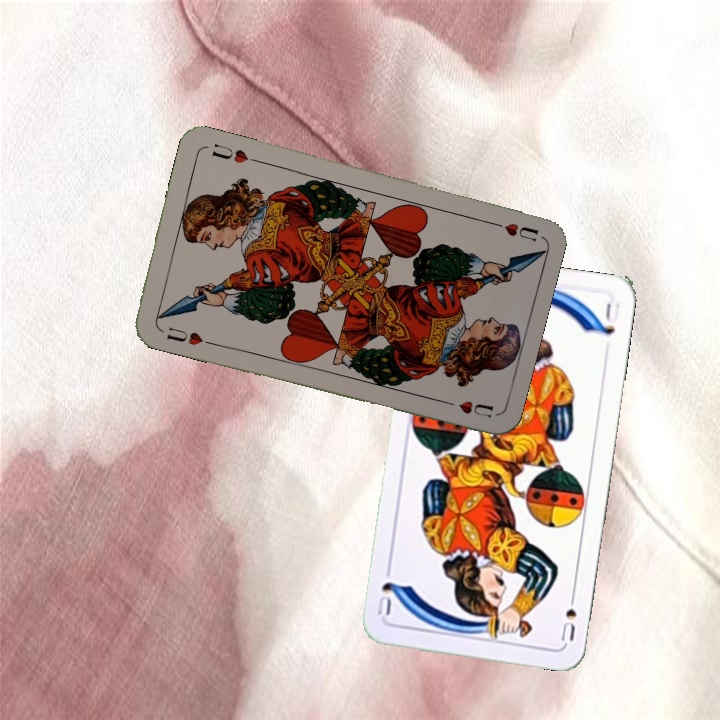HU: (483, 216, 541, 244), (162, 322, 214, 348)
SU: (557, 587, 580, 644)
